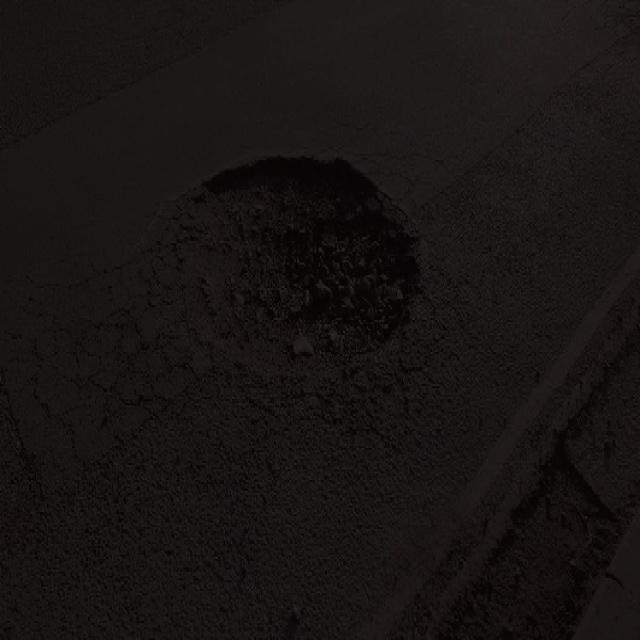Pothole: (138, 144, 434, 394)
